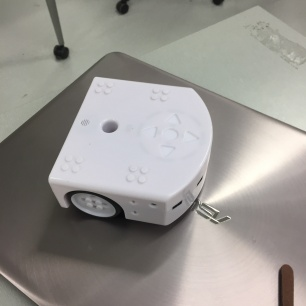thymio: (46, 68, 217, 242)
